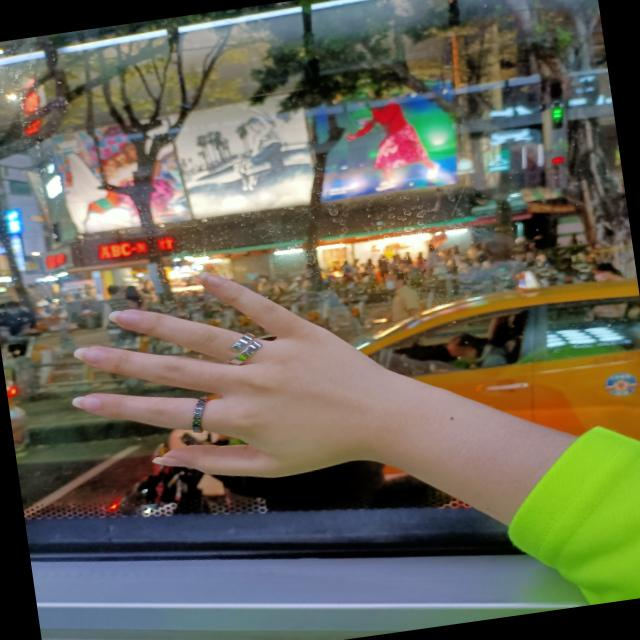Nail: (108, 311, 140, 326), (74, 348, 105, 363), (198, 272, 225, 288), (152, 456, 188, 467), (73, 396, 101, 410)
